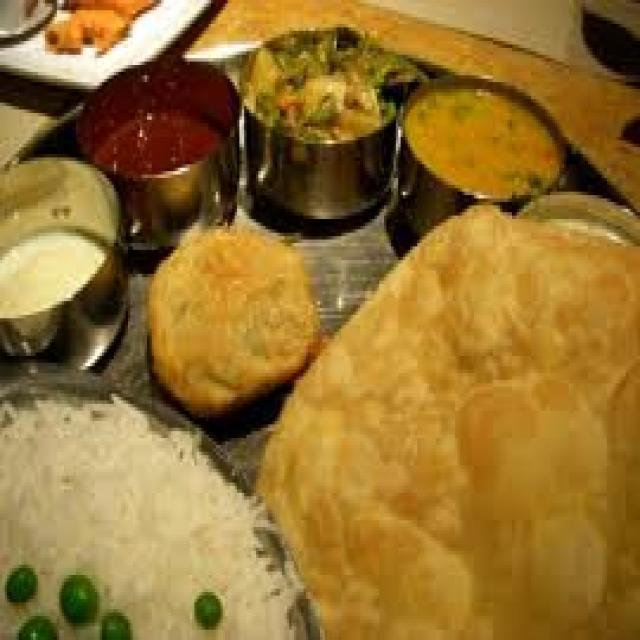curd: (3, 213, 116, 339)
dal: (397, 69, 573, 213)
papad: (139, 215, 321, 422)
rice: (3, 384, 306, 640)
roti: (326, 241, 640, 640)
sambar-rasam: (63, 49, 237, 206)
veg-fry: (235, 1, 390, 233)
